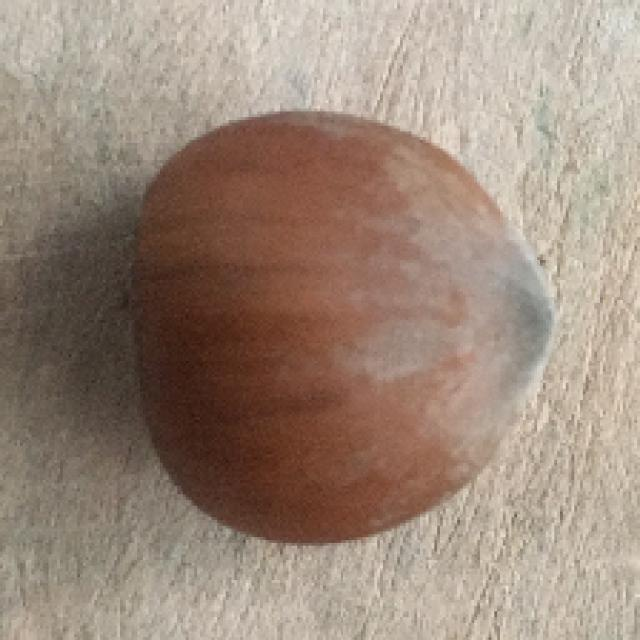qualityHazelnut: (129, 108, 554, 546)
